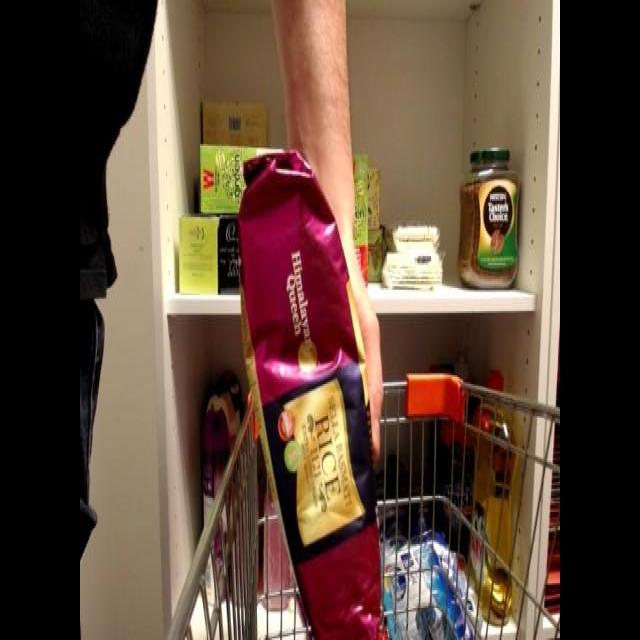Basmati Rice: (237, 146, 388, 634)
